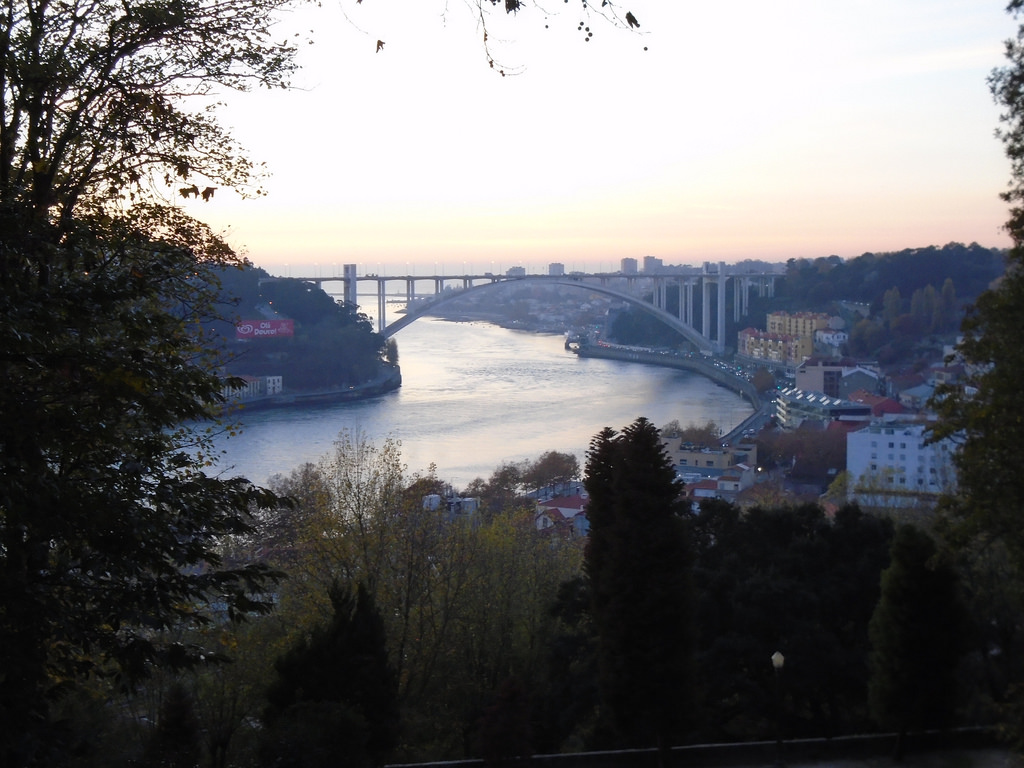arrabida: (287, 258, 782, 359)
